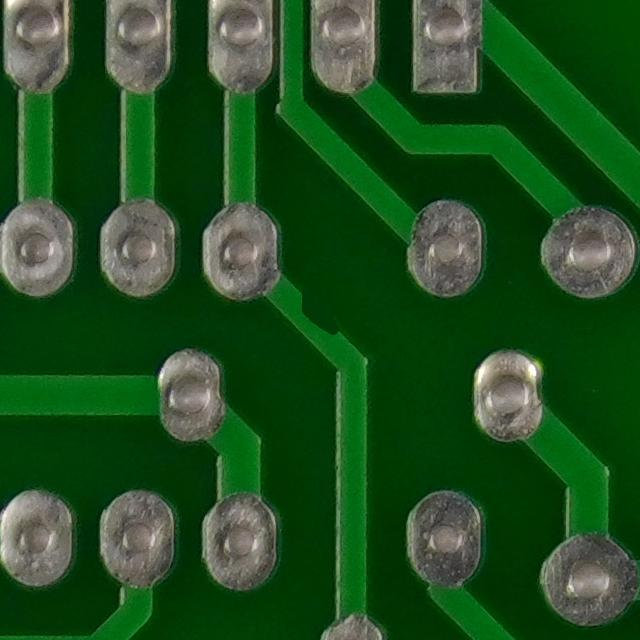mouse_bite: (281, 283, 359, 357)
